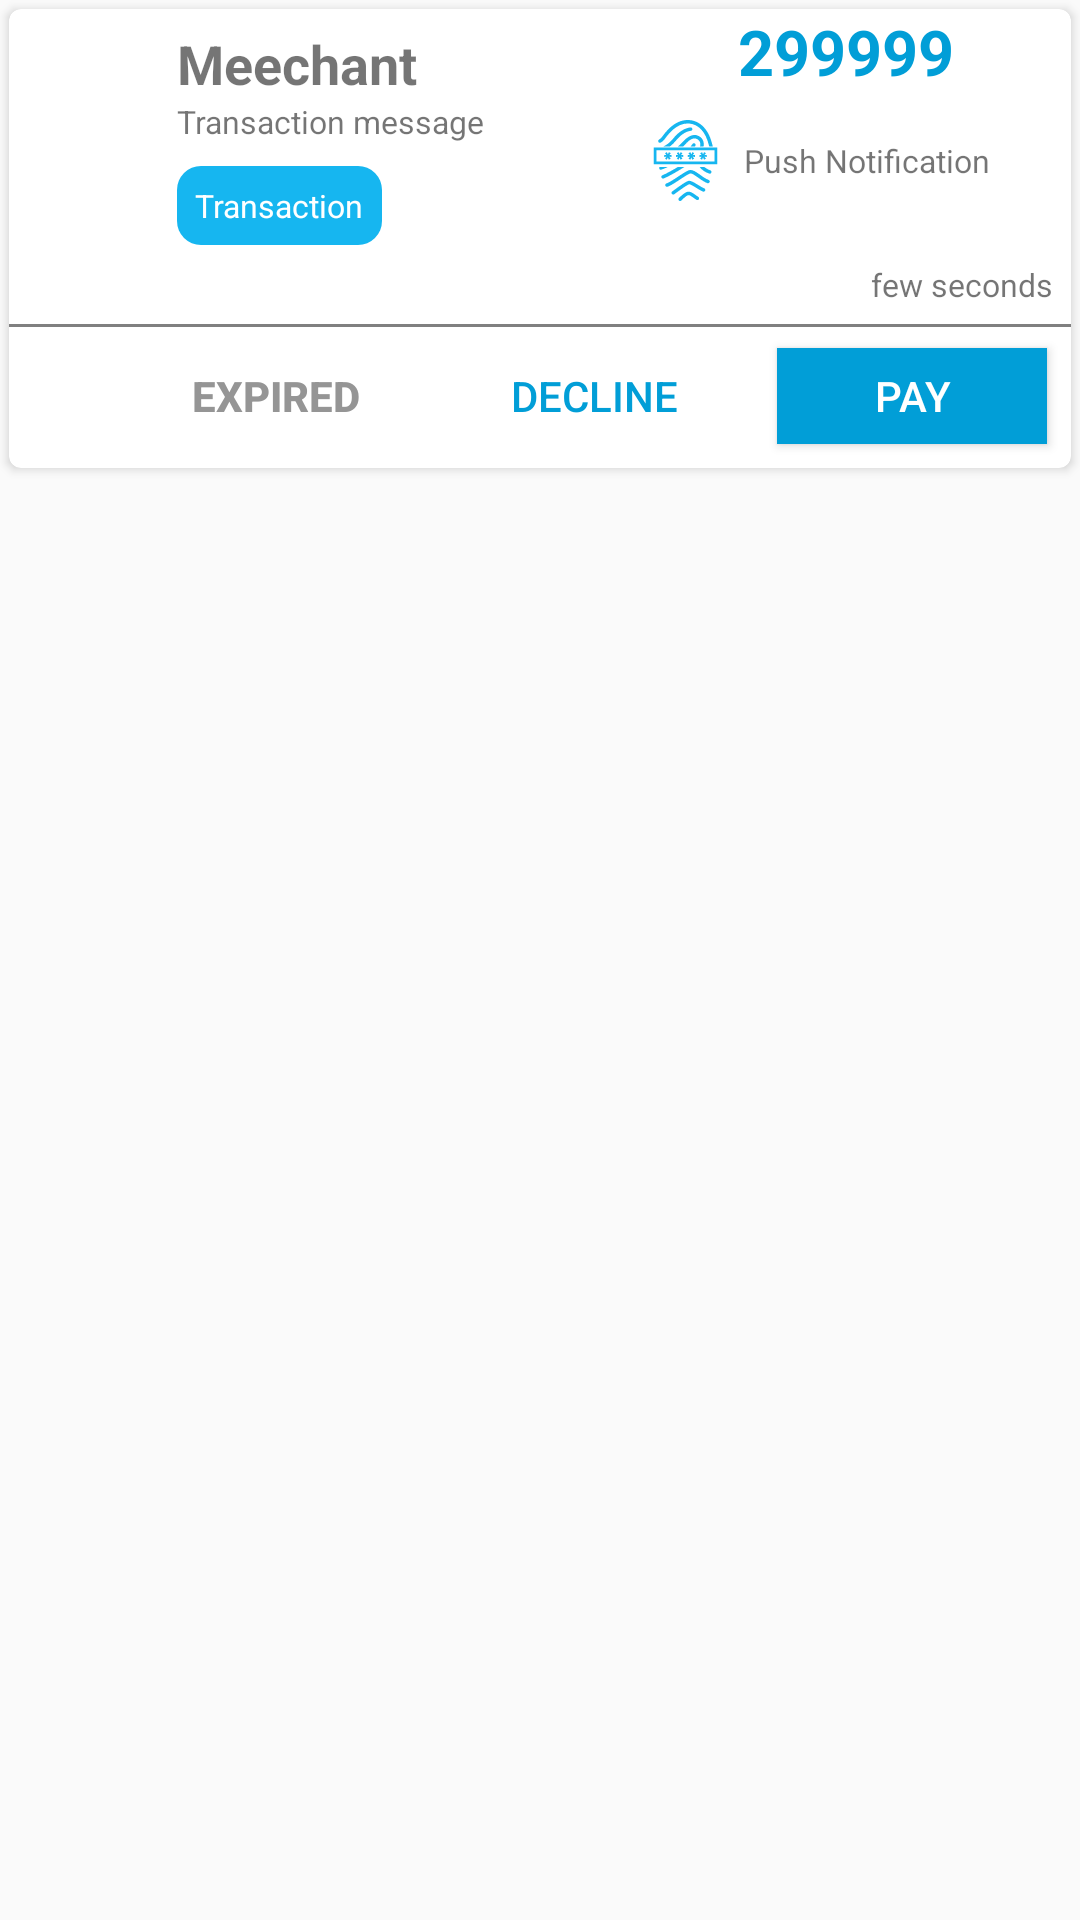

Icons on this 1080w x 1920h Android screen, each with the point to tap as [x,y]:
offline otp: [685,160]
